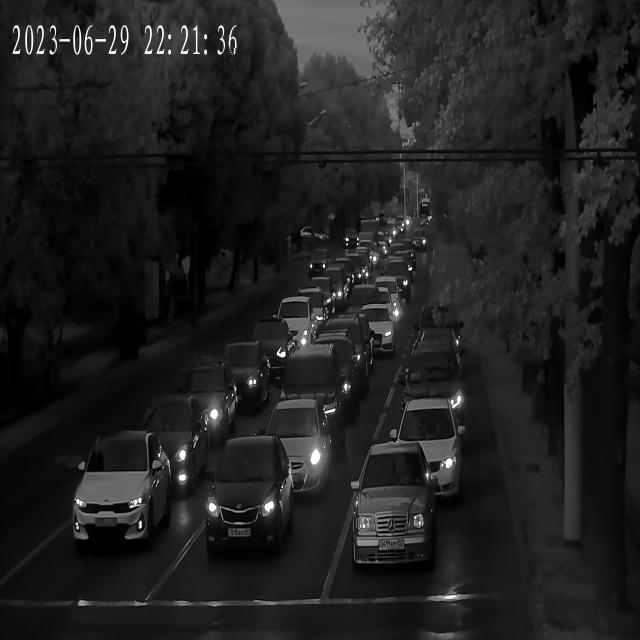Car: (67, 432, 170, 550), (198, 438, 293, 552), (353, 442, 435, 570), (377, 397, 466, 507), (247, 399, 335, 496), (129, 397, 208, 492), (269, 346, 346, 432), (165, 367, 239, 447), (398, 347, 469, 426), (297, 337, 365, 402), (204, 342, 269, 407), (308, 318, 374, 378), (244, 322, 301, 379), (345, 303, 396, 356), (346, 283, 399, 328), (270, 296, 321, 342), (286, 287, 332, 327), (303, 276, 347, 313), (373, 262, 411, 304), (361, 275, 403, 312), (328, 261, 370, 290), (389, 250, 417, 279), (351, 244, 379, 268), (308, 252, 329, 273), (408, 234, 428, 252), (342, 232, 360, 250)
